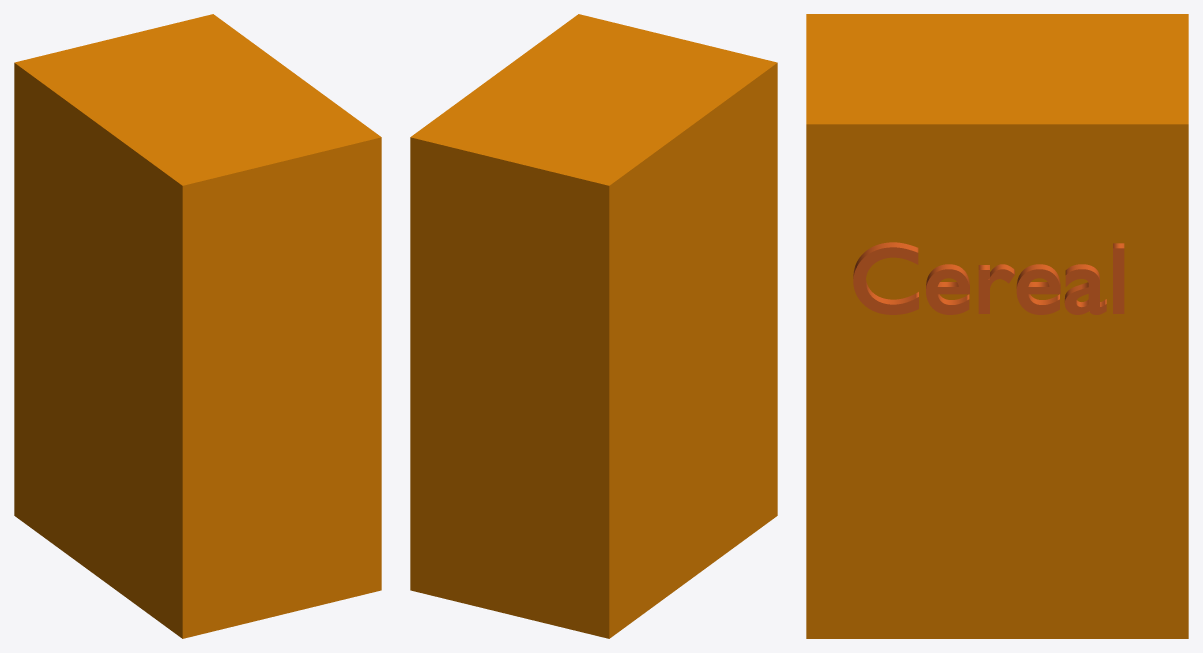
Rendered from cereal.fbx.
3 views of the same model, side by side, from view 1: azimuth 30°, elevation 25°; view 2: azimuth 150°, elevation 25°; view 3: azimuth 270°, elevation 25° (orthographic). The views are drawn at different scales.
Visible parts, largest first — view 1: Cube; view 2: Cube; view 3: Cube, CerealText.
Boxes of the visible parts, bbox=[...] form: Cube: bbox=[14, 14, 381, 638]; Cube: bbox=[410, 14, 777, 638]; Cube: bbox=[806, 14, 1188, 638]; CerealText: bbox=[853, 242, 1124, 314].
Bounding box in the file's own units: 112 × 234 × 157.
